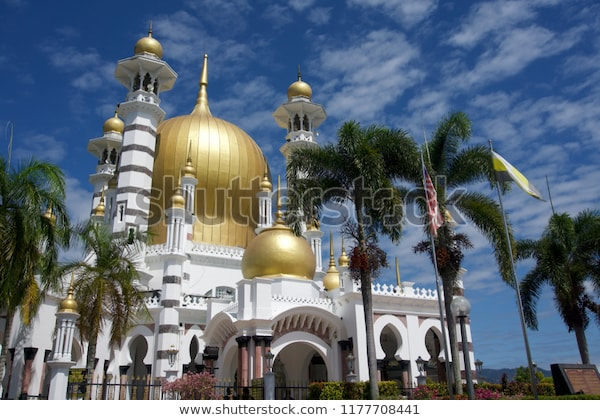Mosque: (60, 27, 351, 350)
